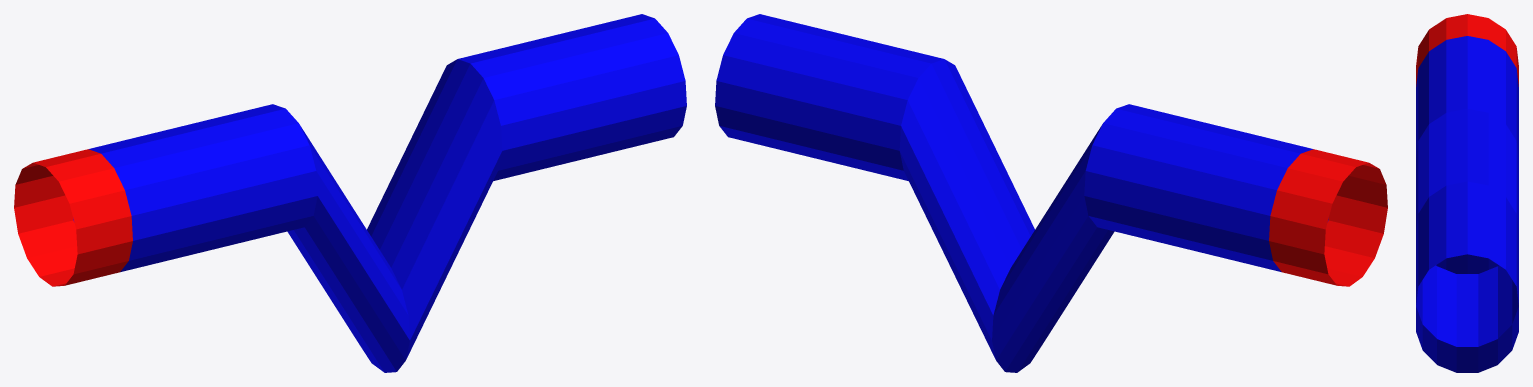
Rendered from Fractal_1_3d.obj.
The picture shows the model from 3 angles, left to right: view 1: azimuth 30°, elevation 25°; view 2: azimuth 150°, elevation 25°; view 3: azimuth 270°, elevation 25°; orthographic projection. The views are drawn at different scales.
Parts seen in each view (by area): view 1: material_b, material_r; view 2: material_b, material_r; view 3: material_b, material_r.
Part boxes in pixels (x1,y1,x2,y2): material_b: (73,14,686,372); material_r: (14,149,132,286); material_b: (715,14,1328,372); material_r: (1269,149,1387,286); material_b: (1416,36,1518,372); material_r: (1416,14,1518,86).
Size of the model in its own units: 1100 by 486 by 199.
